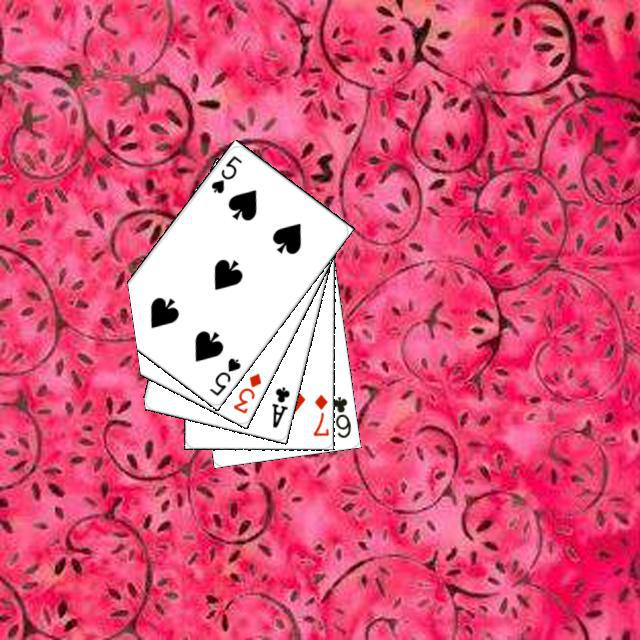3d: (228, 368, 263, 415)
5s: (204, 353, 242, 398), (206, 150, 244, 195)
6c: (328, 391, 353, 440)
7d: (308, 390, 329, 438)
Ac: (267, 382, 291, 430)
